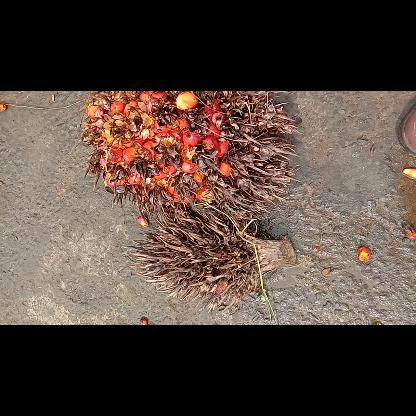Janjang kosong: (127, 212, 295, 314)
Terlalu masak: (78, 91, 298, 225)
